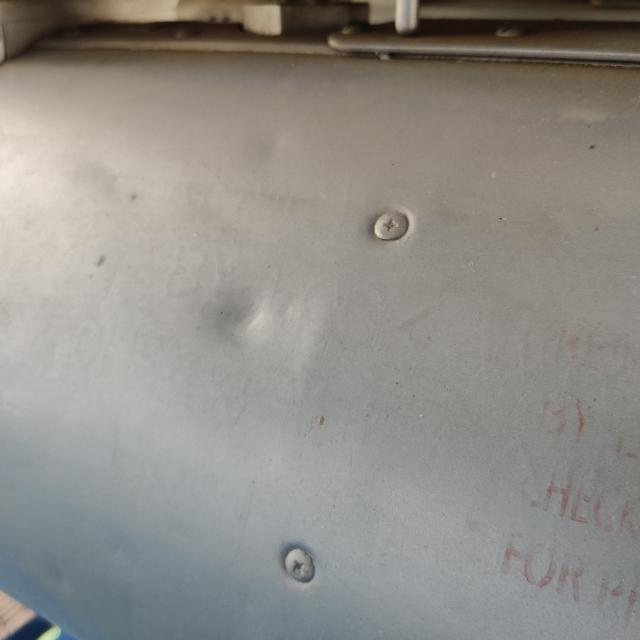dent: (192, 276, 286, 374)
